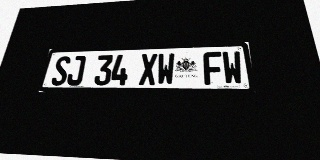3: (93, 55, 113, 85)
4: (110, 54, 129, 85)
F: (203, 52, 223, 85)
J: (66, 56, 86, 86)
S: (50, 56, 71, 86)
W: (222, 51, 244, 85), (156, 53, 174, 85)
X: (139, 53, 157, 85)
